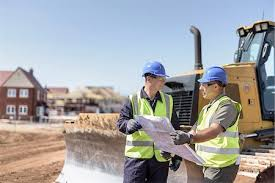Person_wearing_helmet: (138, 54, 174, 81), (195, 63, 226, 89)
